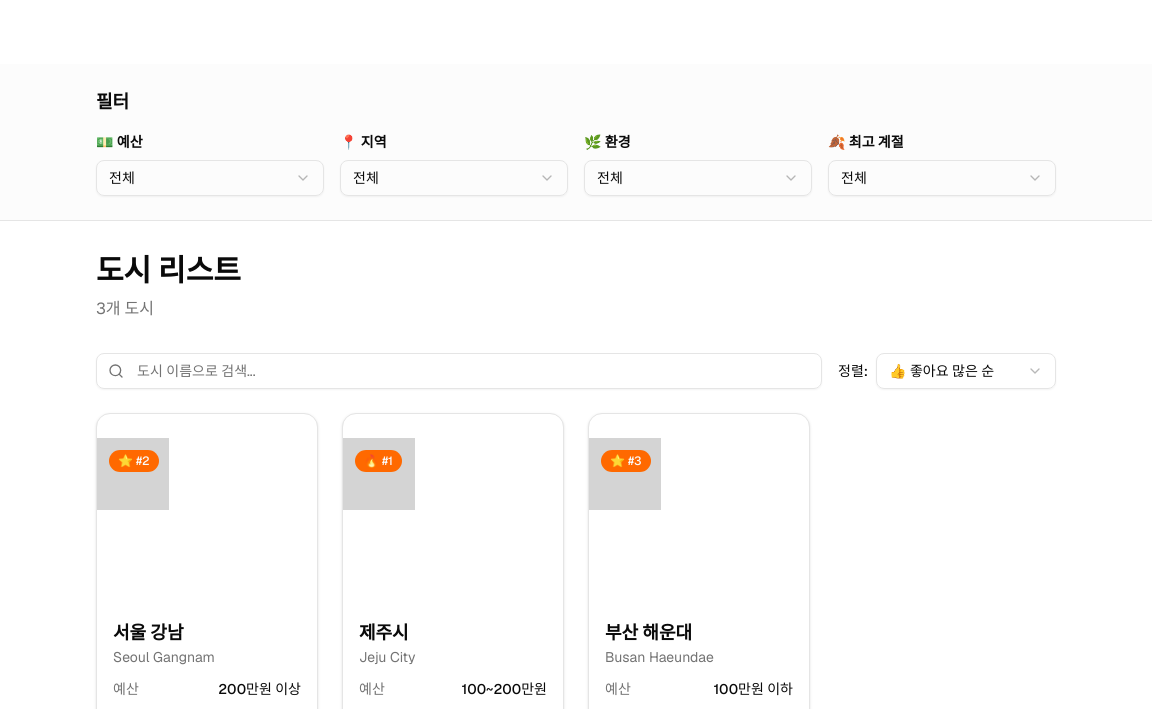
Scenario: PopularCities › 검색 › "GANGNAM" 대소문자 무관하게 서울 강남이 표시된다
In the field: (459, 371) [96,353,822,389], type "GANGNAM"
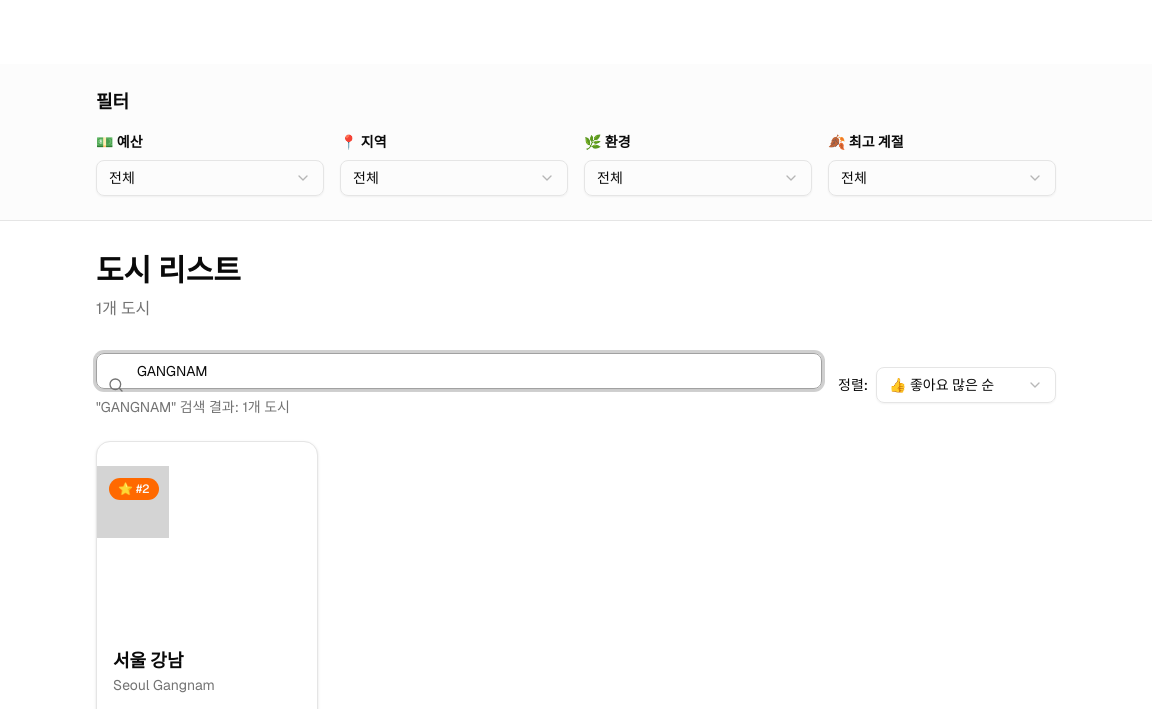
Expected: the heading "서울 강남" is shown, [113,649,184,672]
Now the link "제주시" is gone
